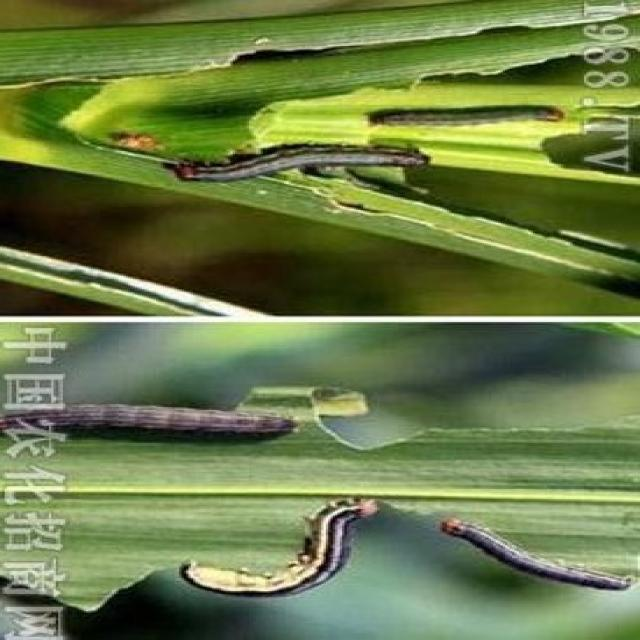army worm: (170, 494, 395, 607), (438, 517, 636, 593), (1, 404, 308, 444), (170, 144, 433, 190), (363, 102, 575, 145)
